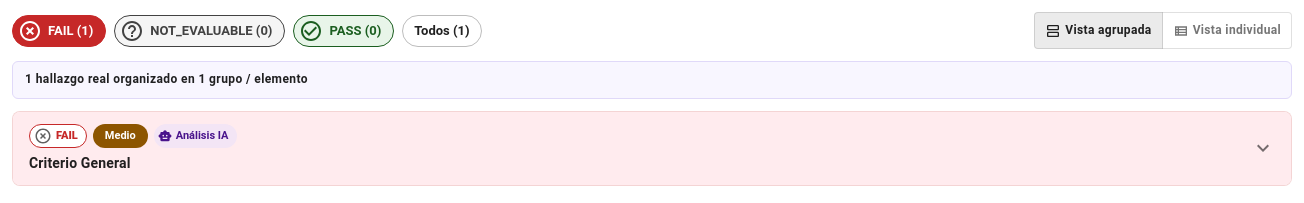
Test: FindingsAccordion — filtro inicial FAIL y filtrado interactivo (Etapa 3) › shows an empty state message when a status filter has 0 matching findings
Click the button "PASS (0)" at {"x": 344, "y": 30}, box [294,14,394,46]
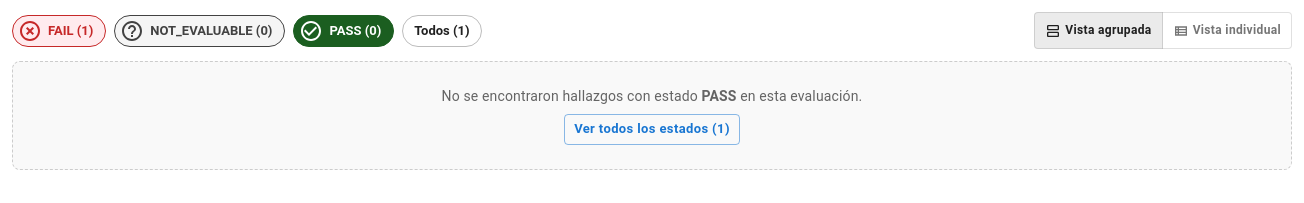
Check: the text "No se encontraron hallazgos con estado" is shown, box [442,88,701,104]
Check: the text "PASS" is shown, box [702,88,737,104]
